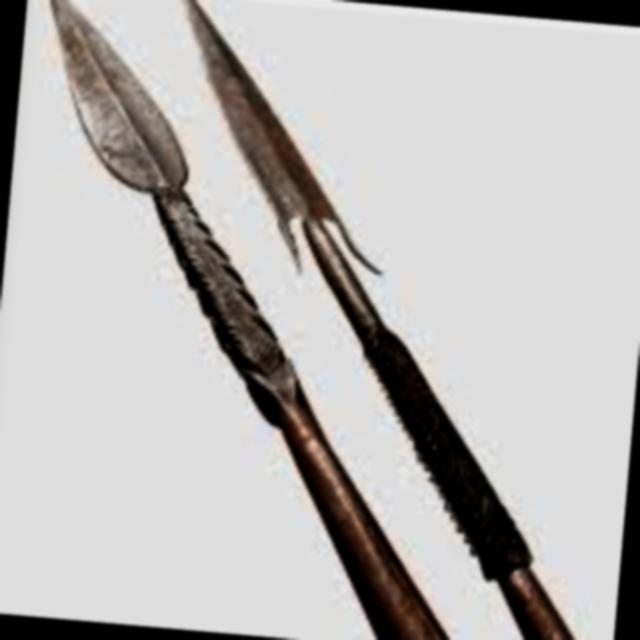spear: (136, 0, 640, 640), (0, 0, 492, 630)
